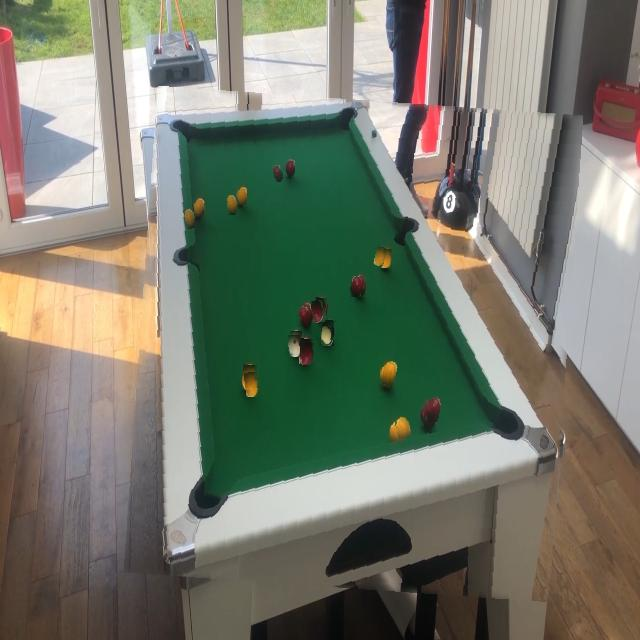Ball: (245, 372, 260, 397), (426, 397, 441, 422), (382, 361, 397, 385), (395, 416, 411, 438), (320, 322, 334, 346), (300, 342, 313, 365), (312, 300, 325, 323), (298, 306, 311, 327), (289, 335, 301, 357), (184, 209, 196, 229), (226, 195, 238, 215), (350, 276, 361, 297), (374, 247, 386, 266), (272, 165, 284, 182)
Billiard table: (132, 93, 575, 595)
